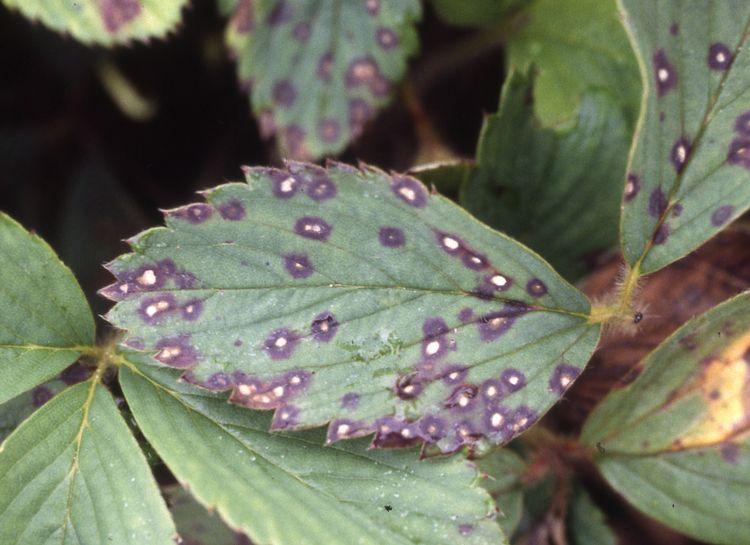black-spot: (184, 209, 518, 432)
